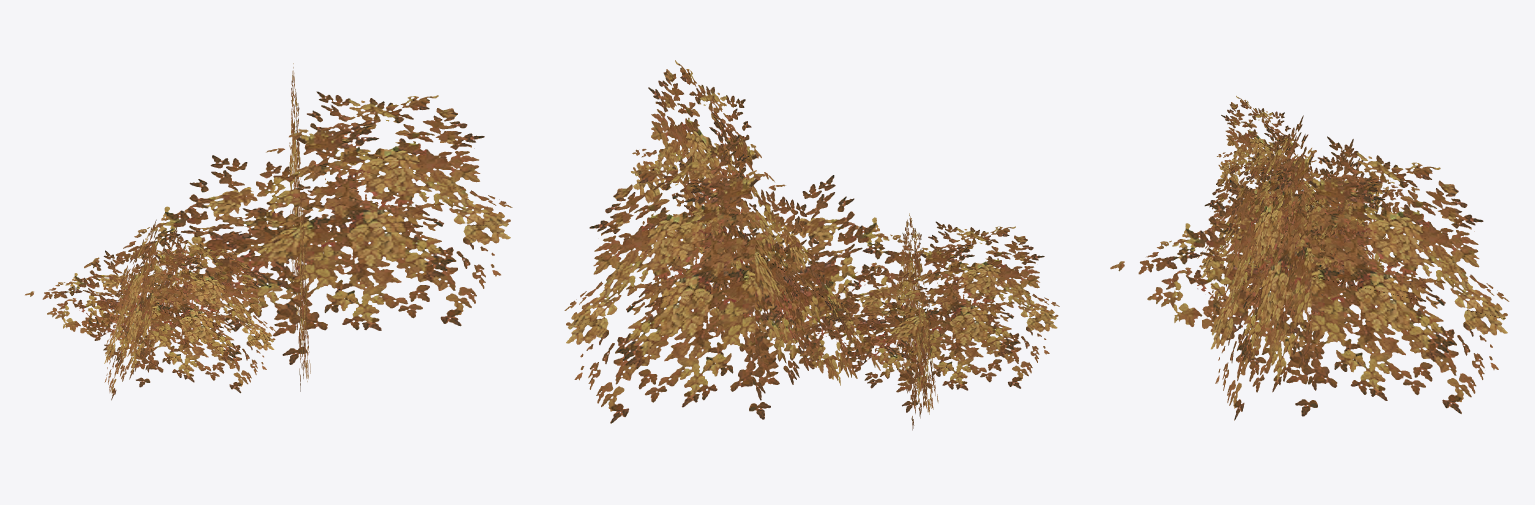
The model's file is decd_saplingclump_lg_a1_l3.fbx.
3 renders of one model, left to right at view 1: azimuth 30°, elevation 25°; view 2: azimuth 150°, elevation 25°; view 3: azimuth 270°, elevation 25°, orthographic. The views are drawn at different scales.
Parts seen in each view (by area): view 1: mesh_node; view 2: mesh_node; view 3: mesh_node.
Part boxes in pixels (left/top/right/bottom): mesh_node: left=25, top=63, right=512, bottom=400; mesh_node: left=564, top=60, right=1059, bottom=430; mesh_node: left=1110, top=96, right=1509, bottom=420.
Bounding box in the file's own units: 4.51 × 3.19 × 3.73.
